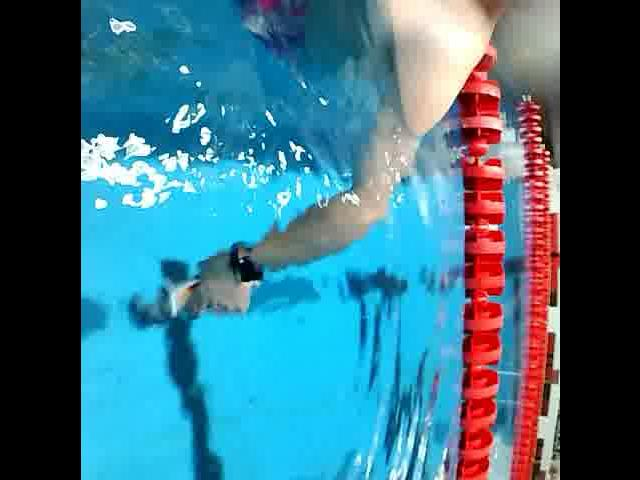Can: (147, 273, 221, 322)
